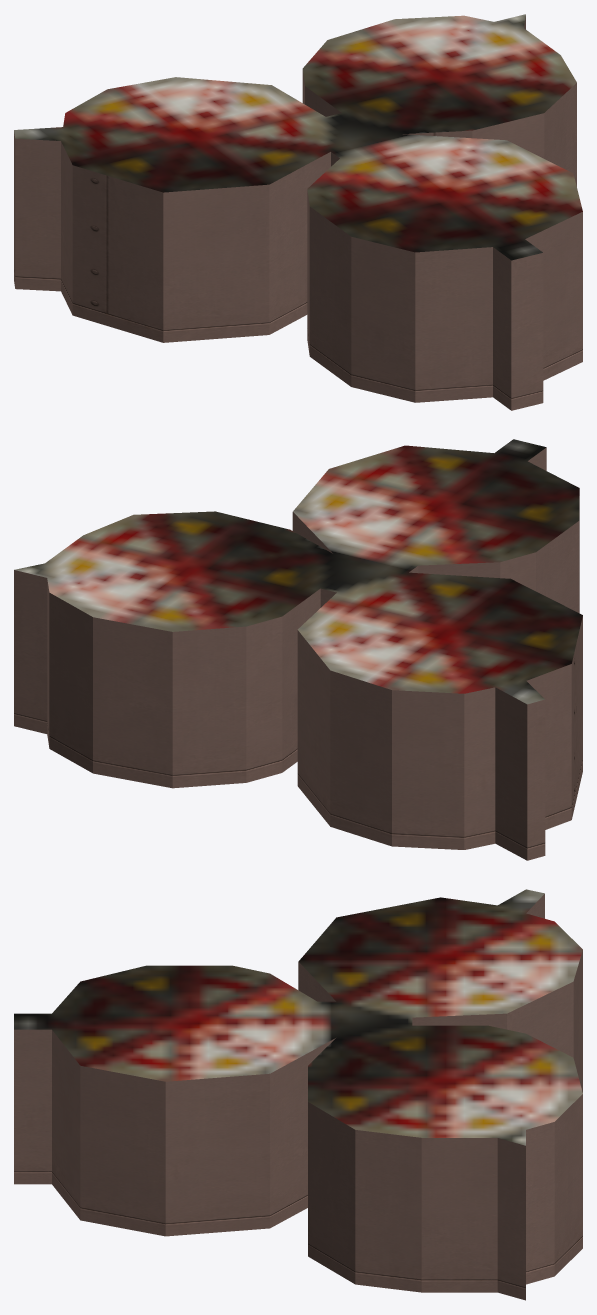
The model's file is fuel_tank_heavy_42.glb.
3 renders of one model, top to bottom at view 1: azimuth 30°, elevation 25°; view 2: azimuth 150°, elevation 25°; view 3: azimuth 270°, elevation 25°, orthographic. The views are drawn at different scales.
Parts seen in each view (by area): view 1: buildings/saxarba/fuel_tanks/fuel_tank_heavy_42; view 2: buildings/saxarba/fuel_tanks/fuel_tank_heavy_42; view 3: buildings/saxarba/fuel_tanks/fuel_tank_heavy_42.
Part boxes in pixels (box(x1,y1,x2,y2)): buildings/saxarba/fuel_tanks/fuel_tank_heavy_42: box(14, 14, 582, 410); buildings/saxarba/fuel_tanks/fuel_tank_heavy_42: box(14, 439, 582, 860); buildings/saxarba/fuel_tanks/fuel_tank_heavy_42: box(14, 889, 582, 1300).
Size of the model in its own units: 64 by 18 by 60.
